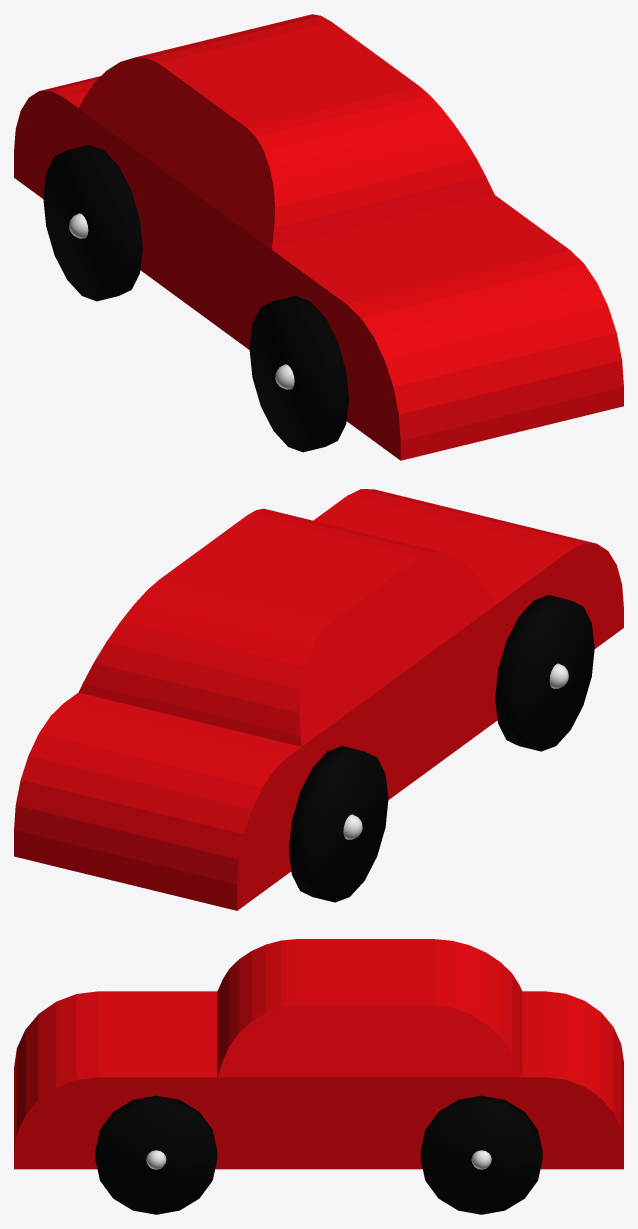
The model's file is ToyCar.fbx.
The picture shows the model from 3 angles, top to bottom: view 1: azimuth 30°, elevation 25°; view 2: azimuth 150°, elevation 25°; view 3: azimuth 270°, elevation 25°; orthographic projection. The views are drawn at different scales.
Visible parts, largest first — view 1: Cylinder.008; view 2: Cylinder.008; view 3: Cylinder.008.
Boxes of the visible parts, x1,y1,x2,y2 form: Cylinder.008: (14, 14, 623, 460); Cylinder.008: (14, 489, 623, 910); Cylinder.008: (14, 939, 623, 1214).
Size of the model in its own units: 260 by 207 by 600.
